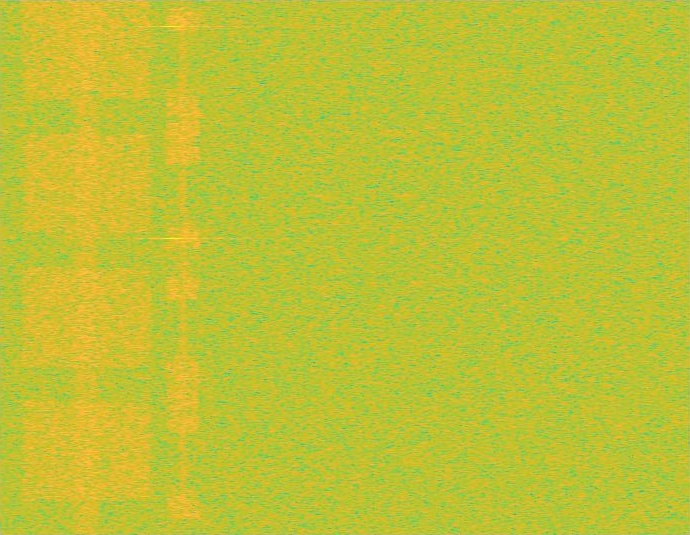5G: (18, 0, 156, 534)
DSSS: (71, 0, 102, 534), (179, 0, 187, 534)
LTE: (166, 0, 201, 534)
Radar: (166, 0, 180, 534)
